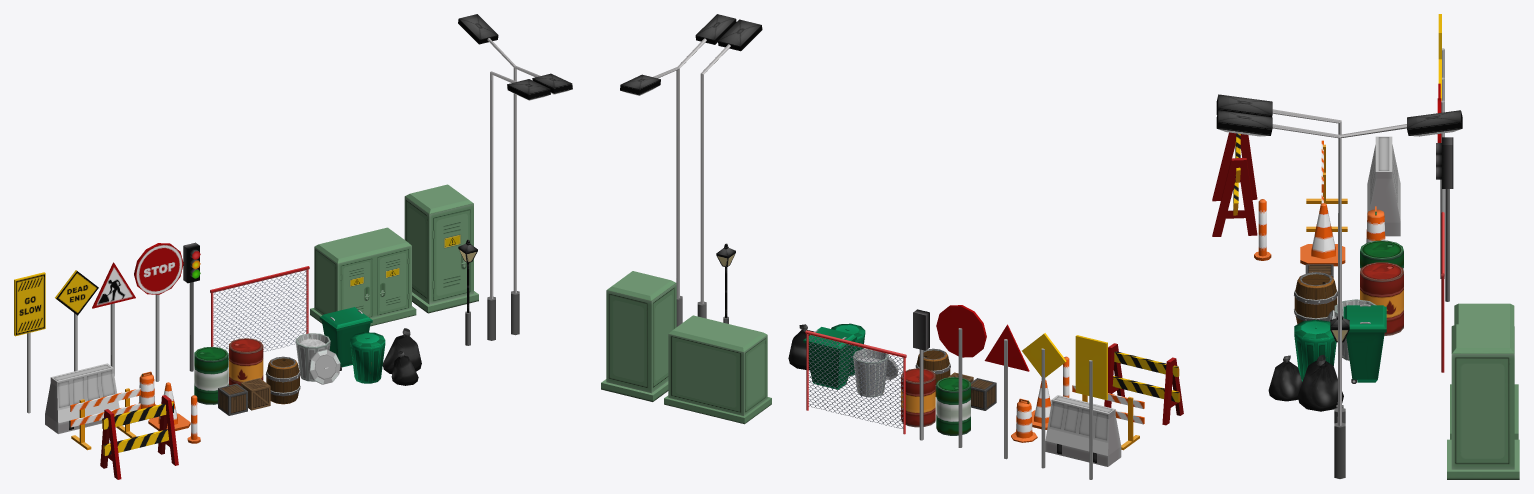
The model's file is Props.FBX.
3 renders of one model, left to right at view 1: azimuth 30°, elevation 25°; view 2: azimuth 150°, elevation 25°; view 3: azimuth 270°, elevation 25°, orthographic. The views are drawn at different scales.
Parts seen in each view (by area): view 1: ExtentionBox1, ExtentionBox2, Fence, BarricadeConcrete, Barricade1, RoadLamp2, SignBoard1, SignBoard4, RoadLamp, OilBarrel, GarbageBox, GarbageCan (+13 smaller); view 2: ExtentionBox1, ExtentionBox2, Fence, BarricadeConcrete, Barricade1, RoadLamp2, SignBoard1, SignBoard4, GarbageBox, RoadLamp, OilBarrel, GasBarrel (+9 smaller); view 3: ExtentionBox2, RoadLamp2, Barricade1, GarbageBox, BarricadeConcrete, GasBarrel, WoodenBarrel, GarbageBag, ExtentionBox1, GarbageCan, RoadLamp, BarricadeCone (+9 smaller).
Boxes of the visible parts, box(x1,y1,x2,y2) form: ExtentionBox1: box(310, 227, 416, 326); ExtentionBox2: box(404, 184, 478, 313); Fence: box(210, 266, 309, 359); BarricadeConcrete: box(45, 363, 119, 433); Barricade1: box(100, 395, 178, 479); RoadLamp2: box(458, 14, 572, 335); SignBoard1: box(134, 243, 183, 381); SignBoard4: box(14, 272, 45, 413); RoadLamp: box(487, 71, 550, 340); OilBarrel: box(194, 346, 228, 404); GarbageBox: box(319, 307, 372, 370); GarbageCan: box(350, 332, 385, 383); ExtentionBox1: box(664, 315, 771, 424); ExtentionBox2: box(601, 271, 676, 401); Fence: box(805, 330, 906, 434); BarricadeConcrete: box(1045, 395, 1121, 466); Barricade1: box(1104, 343, 1183, 425); RoadLamp2: box(620, 14, 736, 326); SignBoard1: box(936, 305, 986, 447); SignBoard4: box(1075, 335, 1107, 479); GarbageBox: box(803, 327, 856, 389); RoadLamp: box(697, 19, 762, 318); OilBarrel: box(936, 377, 970, 435); GasBarrel: box(901, 368, 935, 427); ExtentionBox2: box(1447, 324, 1519, 479); RoadLamp2: box(1216, 110, 1462, 478); Barricade1: box(1212, 132, 1257, 236); GarbageBox: box(1343, 304, 1386, 383); BarricadeConcrete: box(1367, 136, 1400, 236); GasBarrel: box(1360, 262, 1403, 335); WoodenBarrel: box(1294, 272, 1337, 324); GarbageBag: box(1297, 355, 1343, 411); ExtentionBox1: box(1450, 303, 1518, 439); GarbageCan: box(1294, 319, 1336, 381); RoadLamp: box(1216, 94, 1345, 423); BarricadeCone: box(1300, 203, 1345, 266).
Size of the model in its own units: 618 by 363 by 274.
